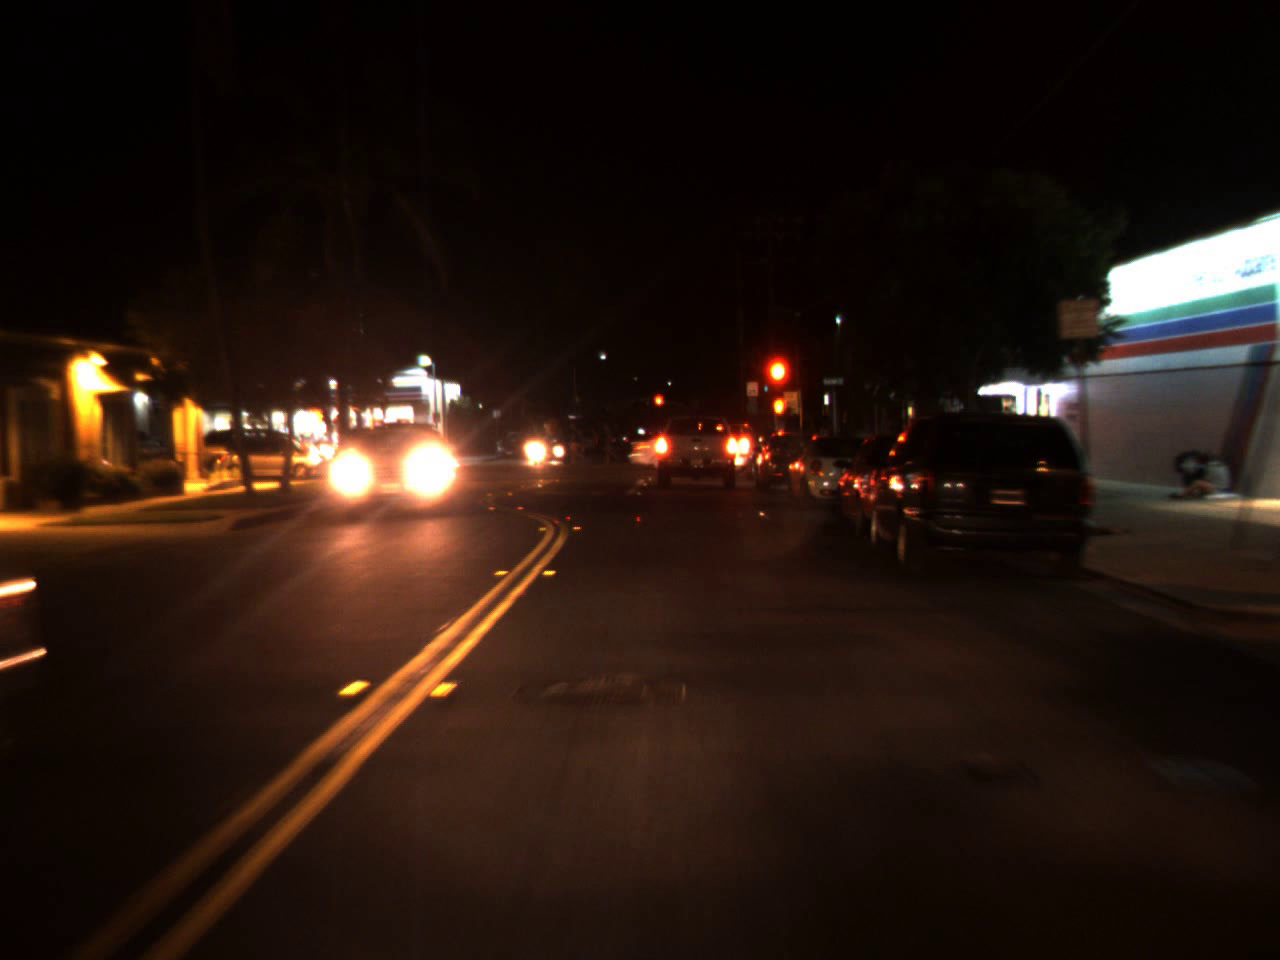stop: (760, 351, 796, 426), (653, 393, 665, 419)
